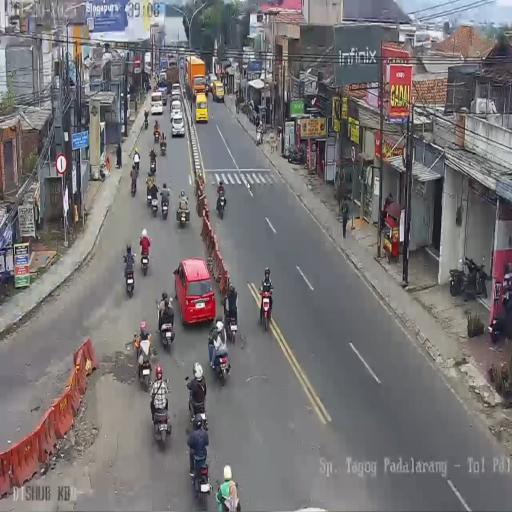3: (183, 54, 206, 102), (159, 58, 168, 71)
car: (173, 258, 216, 326), (195, 93, 208, 123), (150, 91, 163, 116), (211, 80, 225, 102), (170, 99, 182, 120), (171, 82, 181, 102), (158, 70, 168, 85), (168, 55, 178, 69)
truck: (450, 256, 488, 300), (151, 386, 172, 445), (208, 329, 230, 383), (192, 452, 212, 508), (134, 336, 153, 390), (489, 299, 511, 341), (159, 303, 175, 350), (259, 284, 273, 332), (226, 299, 238, 345), (123, 254, 136, 295), (216, 186, 227, 220), (286, 145, 304, 165), (140, 241, 150, 275), (160, 190, 170, 220), (149, 186, 159, 215), (130, 170, 137, 196), (149, 154, 157, 175), (133, 155, 140, 175), (153, 124, 160, 143), (256, 127, 263, 146), (160, 137, 166, 155), (144, 109, 148, 128), (241, 100, 246, 114)
